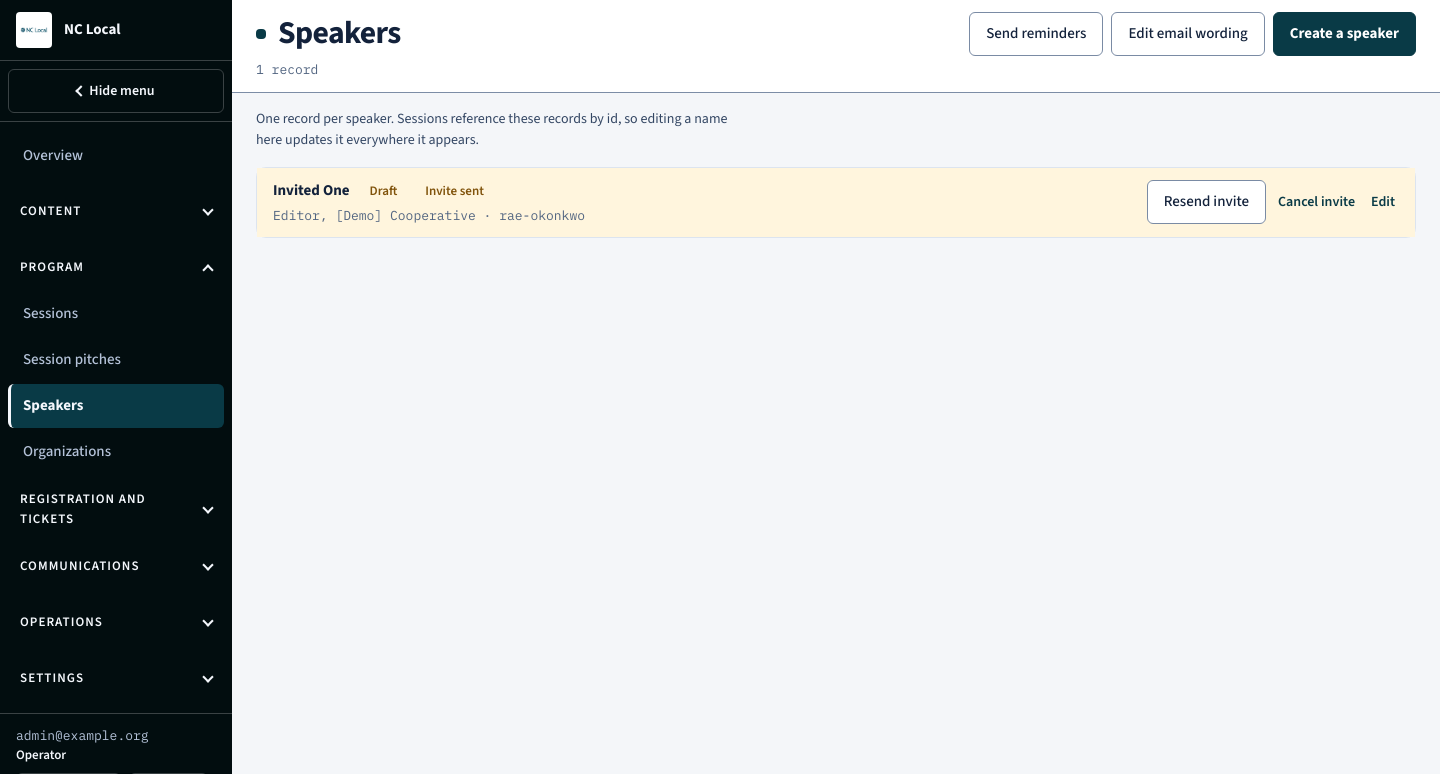
Scenario: invite actions › posts cancelSpeakerInvite and says the invitation was cancelled
Click the button "Cancel invite" at (1316, 202), box [1274,190,1359,215]
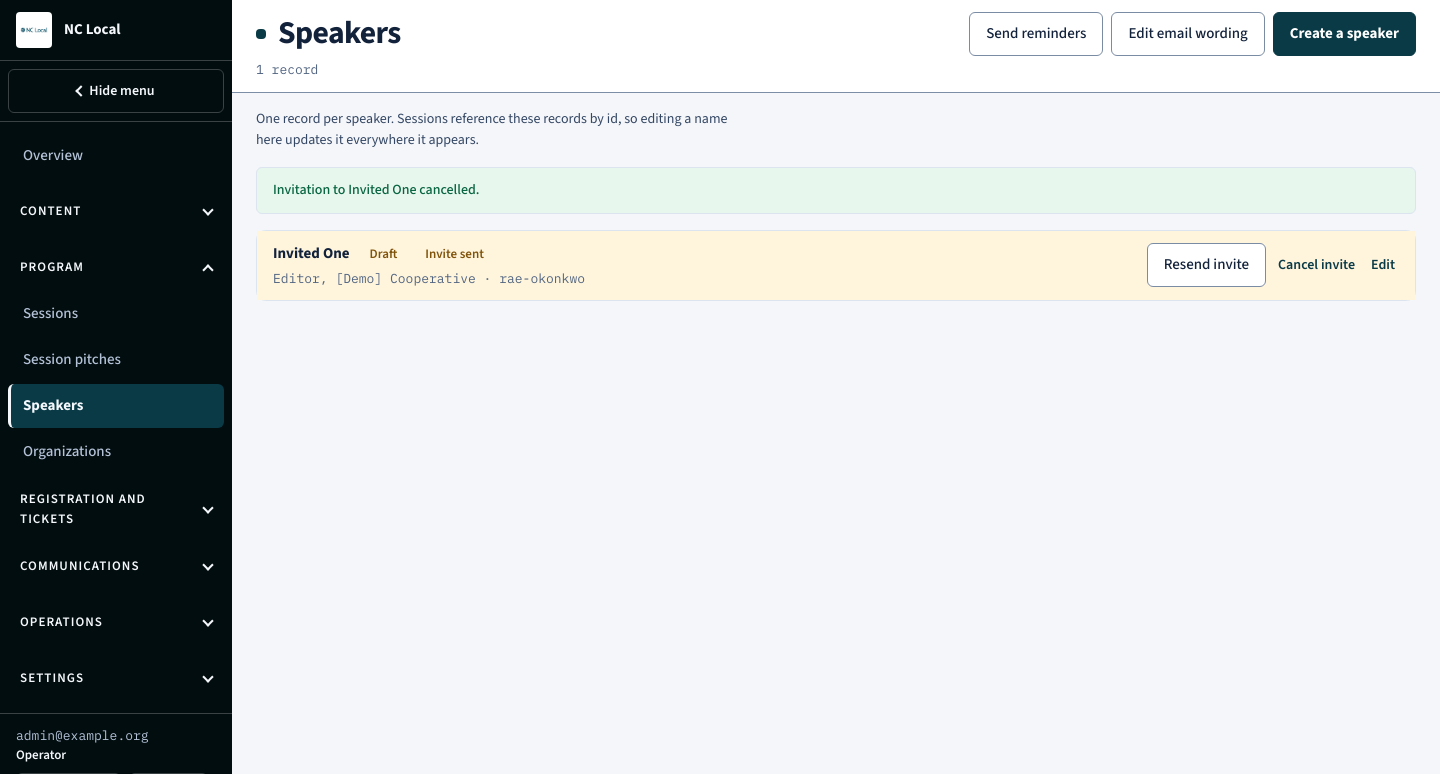
expect the text "Invitation to Invited One cancelled." is shown: met, box [256,166,1416,214]
